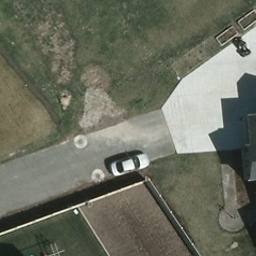car: (107, 152, 151, 176)
